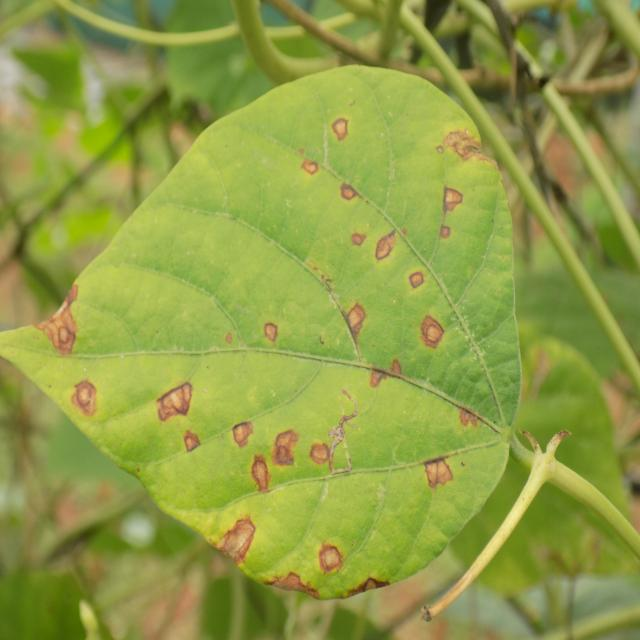Dolicos bean_cercospora leaf spot: (0, 72, 533, 602)
